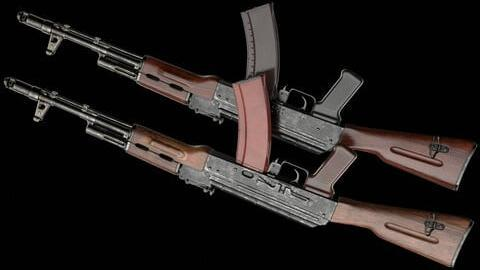larga: (4, 76, 475, 269), (15, 1, 480, 192)
